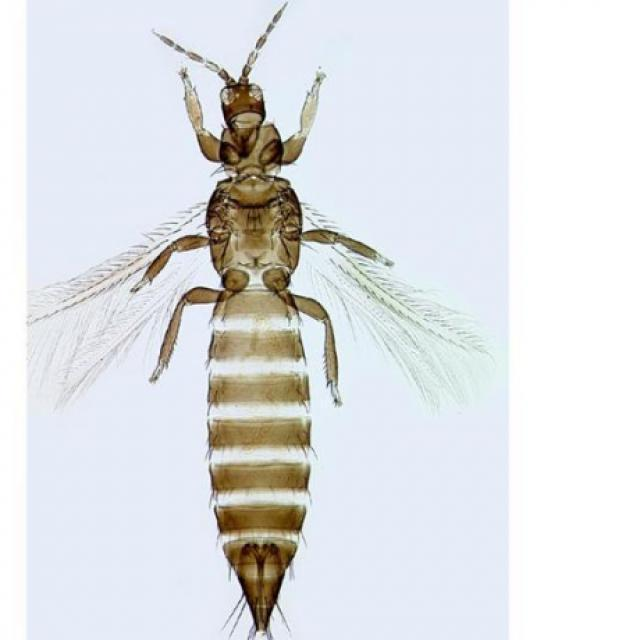Thrips: (113, 13, 369, 612)
